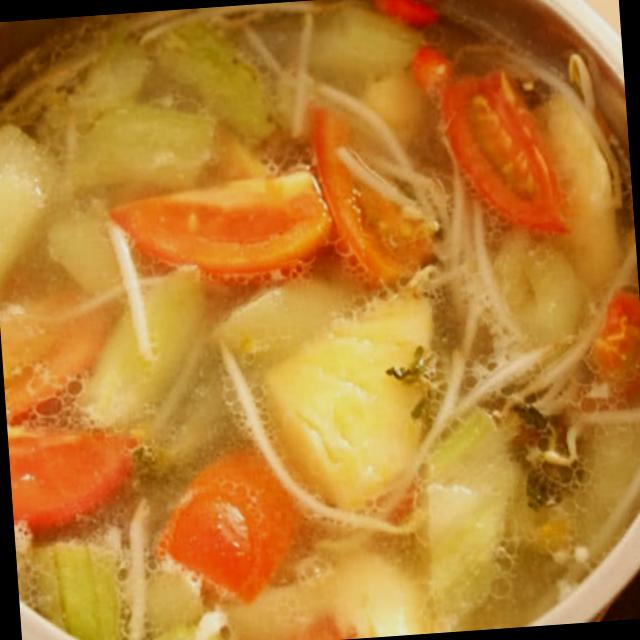canh chua: (0, 0, 640, 640)
